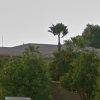Palm tree: (42, 14, 81, 74)
